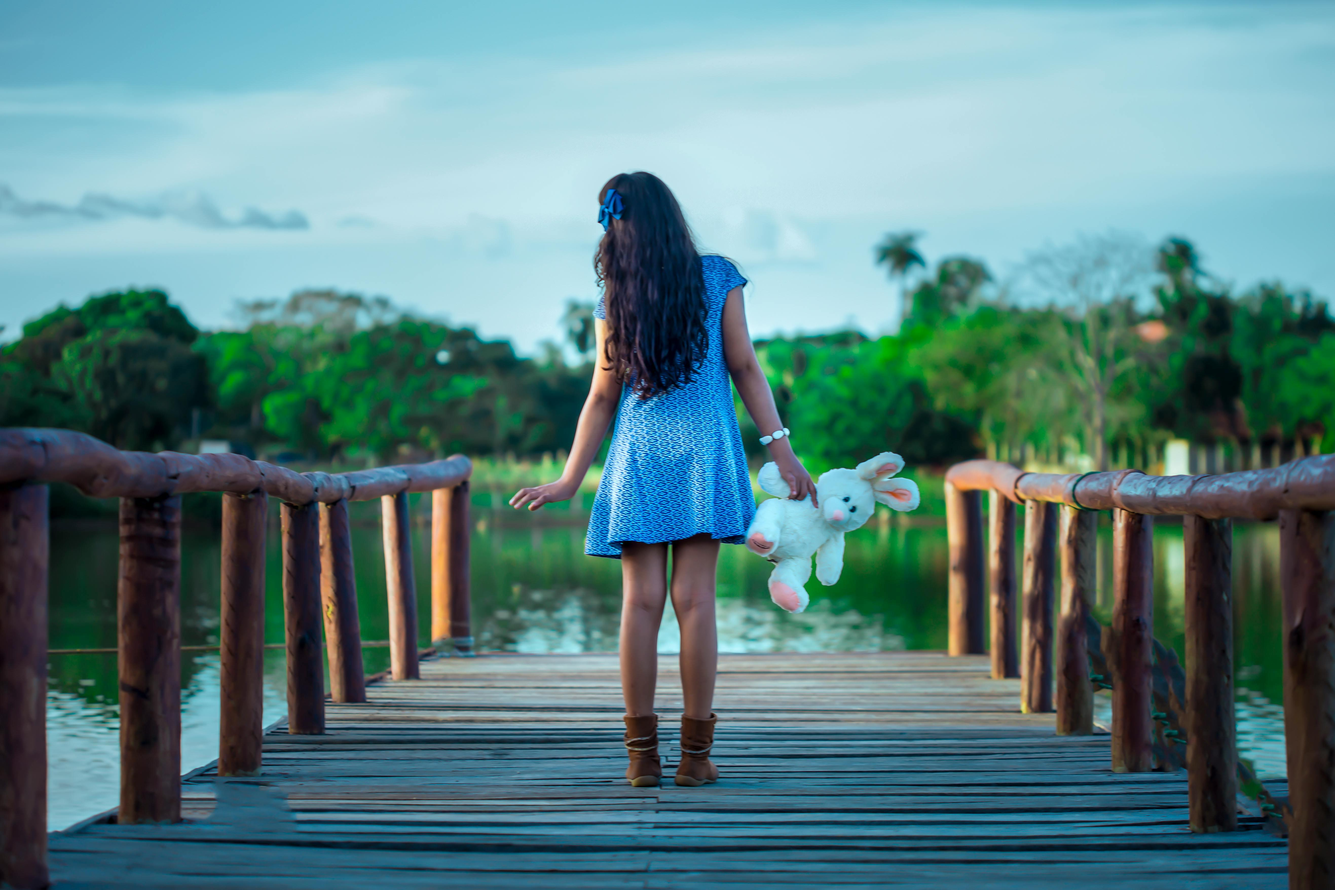Human: (533, 148, 818, 805)
